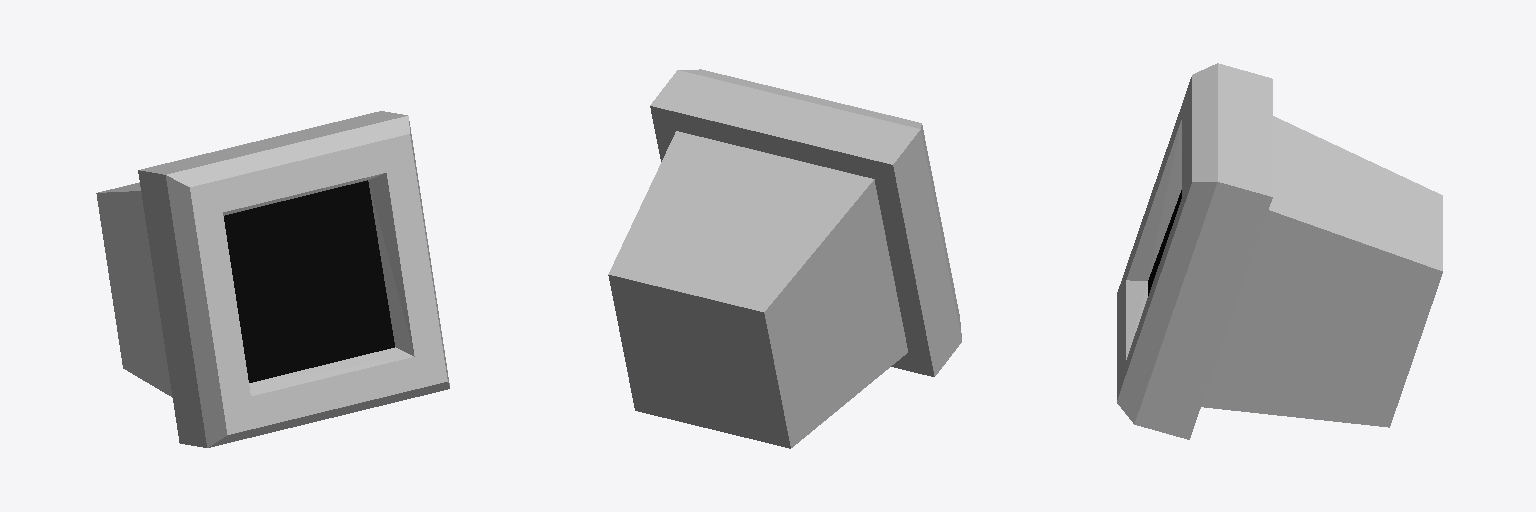
Rendered from monitor2.obj.
3 renders of one model, left to right at view 1: azimuth 30°, elevation 25°; view 2: azimuth 150°, elevation 25°; view 3: azimuth 270°, elevation 25°, orthographic.
Visible parts, largest first — view 1: Screen2_Cube.001; view 2: Screen2_Cube.001; view 3: Screen2_Cube.001.
Part boxes in pixels (x1,y1,x2,y2): Screen2_Cube.001: (96,111,449,447); Screen2_Cube.001: (608,69,961,448); Screen2_Cube.001: (1117,63,1442,439).
Bounding box in the file's own units: 7.65 × 8.04 × 8.91.